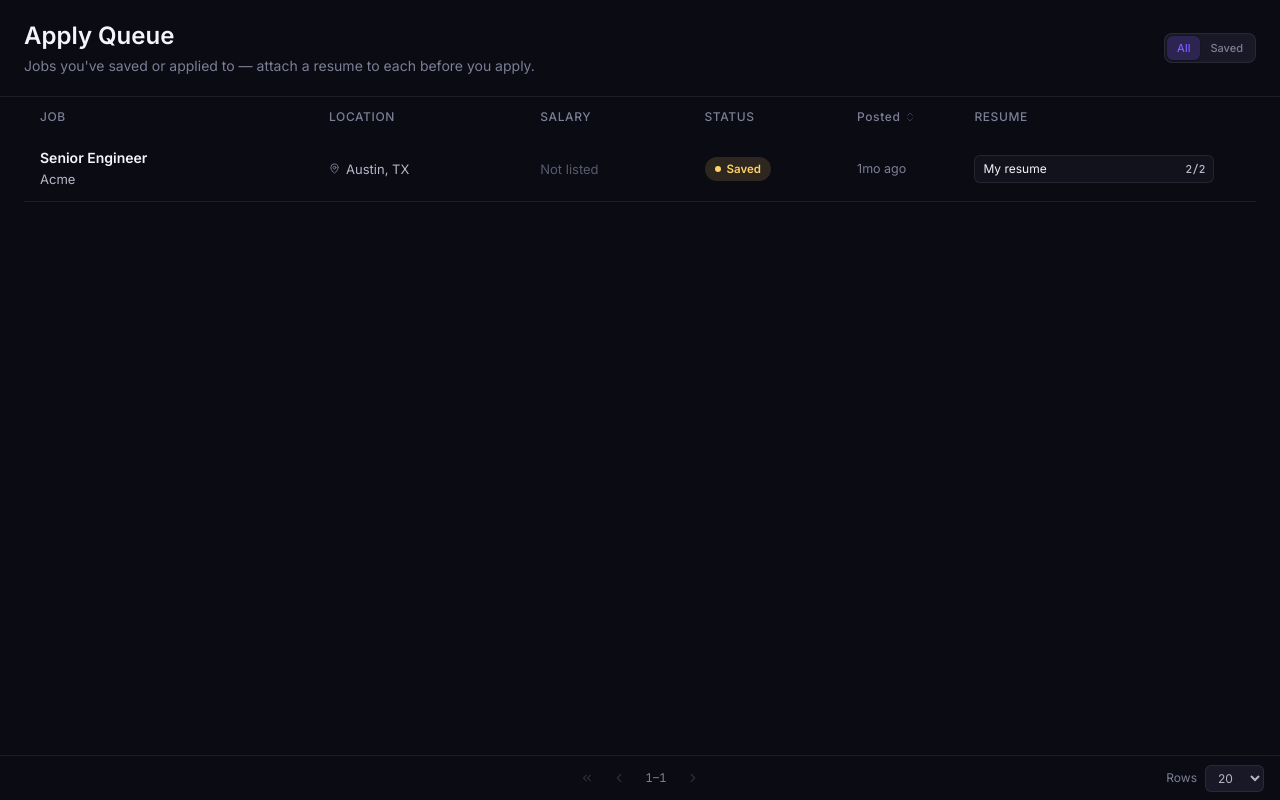
it: ApplyQueuePage › detail panel › shows an error state with a close button when the job detail fetch fails
Check: the link "Senior Engineer" is shown, box [40,149,147,166]
Click the button with aria-label "Senior Engineer at Acme": (640, 169) [24,137,1256,202]
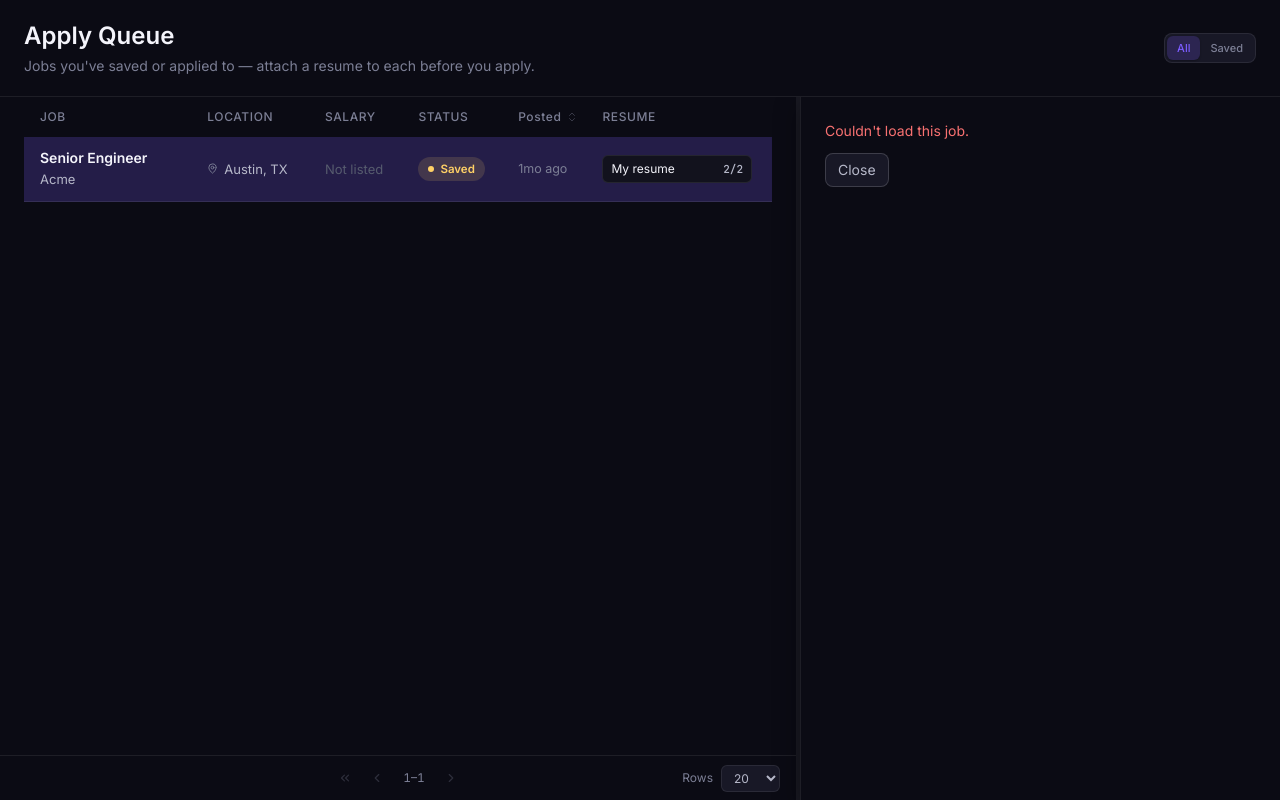
Check: the text "Couldn't load this job." is shown, box [825,121,969,141]
Click the button "Close": (857, 170) [825,153,889,187]
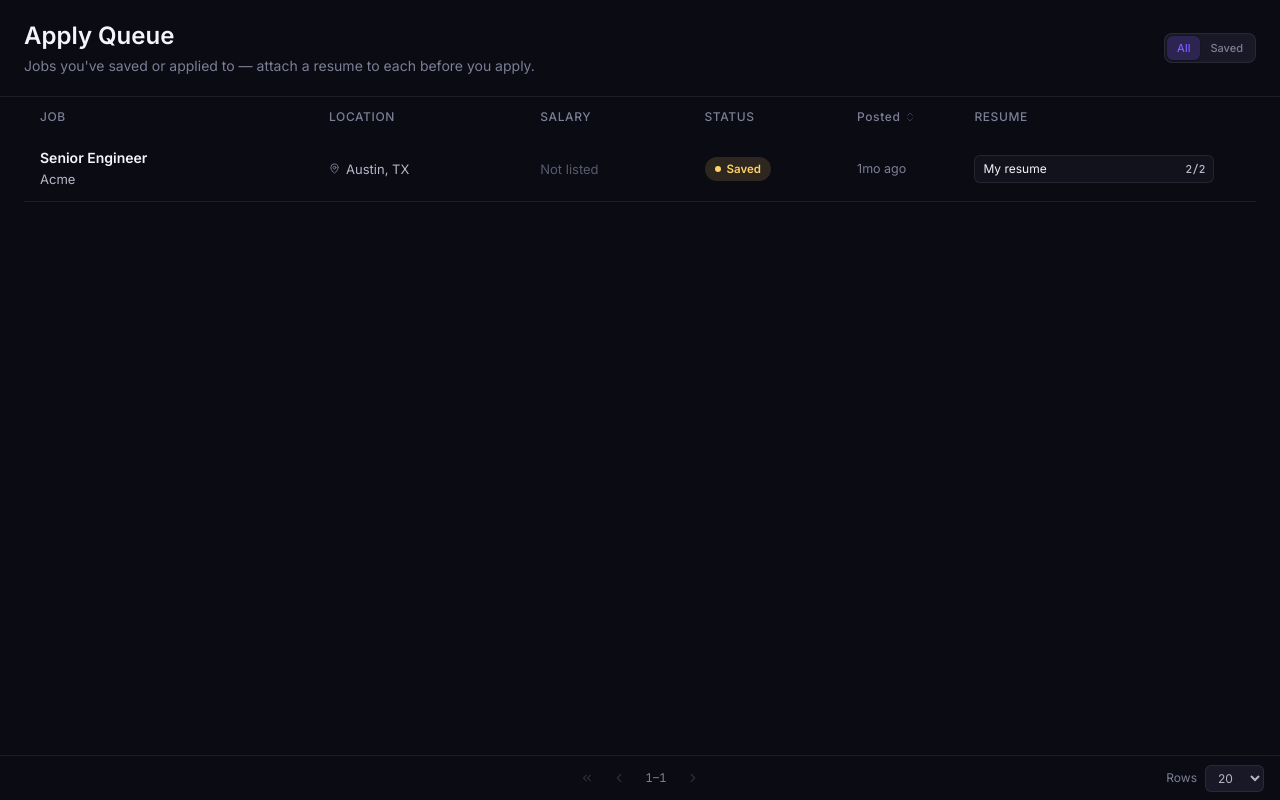
Check: the text "Couldn't load this job." is gone
